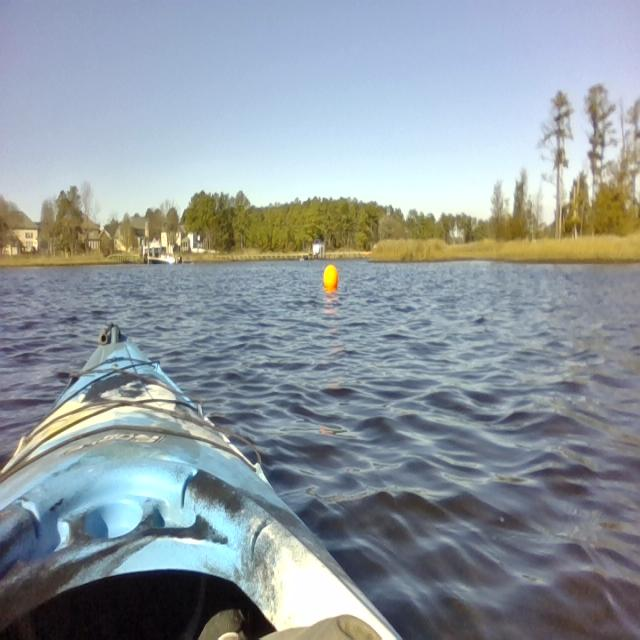Buoy: (322, 260, 340, 298)
